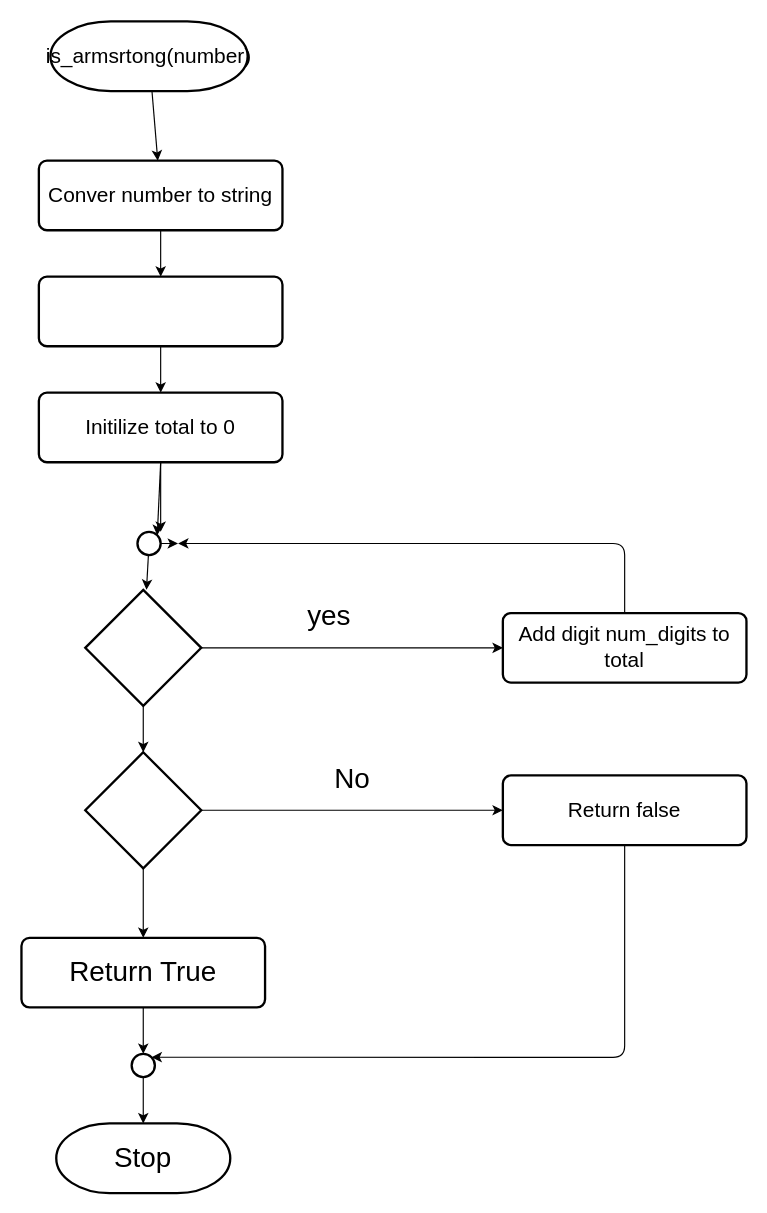
Image size: 767x1213. Some labels were removed from this diagram. The centre of each missing label's shape, as x and y in pixels:
For cach digit in srinh: (143,647)
Get number of digits: (160,311)
IS total eqal to number?: (143,810)
